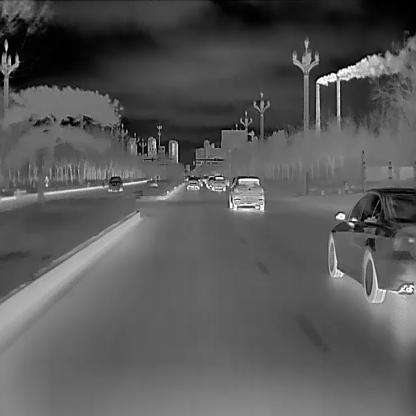car: (327, 186, 415, 303), (227, 177, 264, 211), (211, 175, 226, 190), (108, 176, 122, 192), (186, 177, 199, 190)
